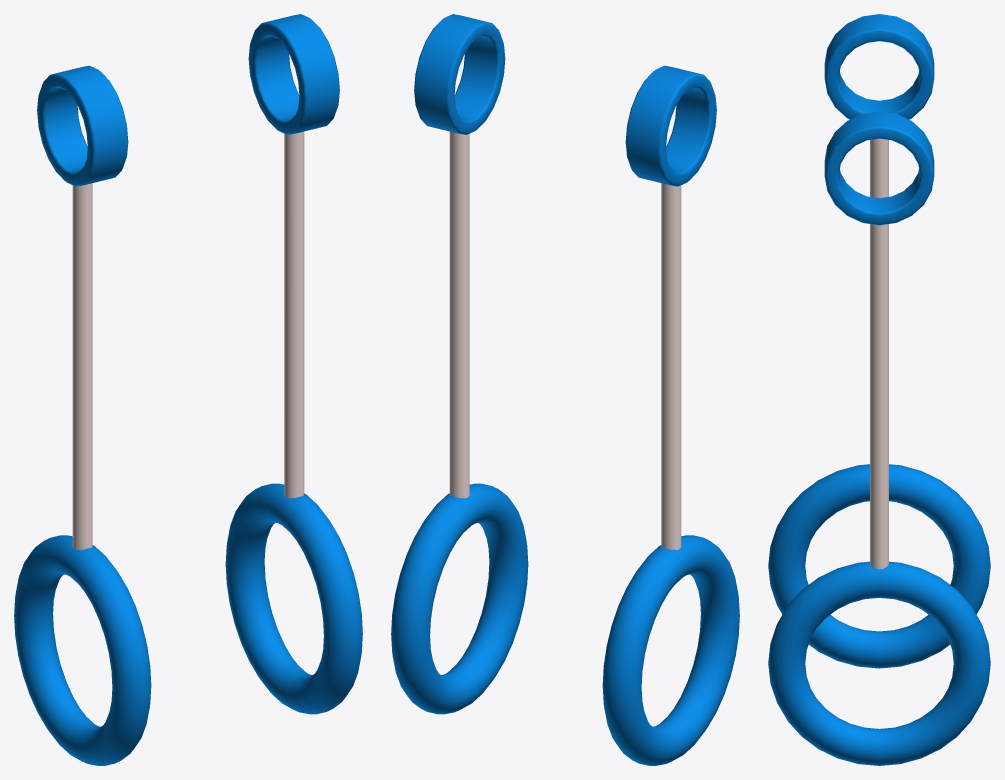
File: City_18_Gymnastic_Rings_1.glb
The picture shows the model from 3 angles, left to right: view 1: azimuth 30°, elevation 25°; view 2: azimuth 150°, elevation 25°; view 3: azimuth 270°, elevation 25°; orthographic projection. The views are drawn at different scales.
Parts seen in each view (by area): view 1: City_18_Gymnastic_Rings_1; view 2: City_18_Gymnastic_Rings_1; view 3: City_18_Gymnastic_Rings_1.
Boxes of the visible parts, x1=… form: City_18_Gymnastic_Rings_1: x1=14, y1=14, x2=362, y2=765; City_18_Gymnastic_Rings_1: x1=391, y1=14, x2=739, y2=765; City_18_Gymnastic_Rings_1: x1=768, y1=14, x2=990, y2=765.
Size of the model in its own units: 0.3859 by 1.02 by 0.3188.
Materials: 1 (1 with a texture image).
